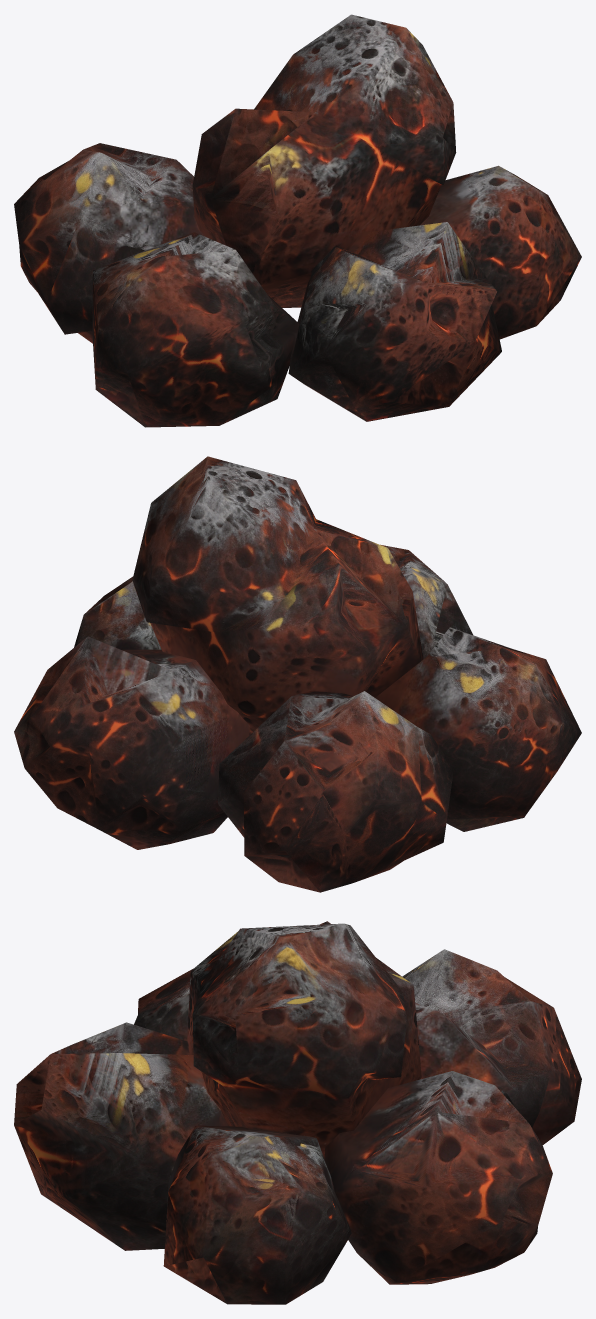
File: nature-red-lava-pebbles.glb
The picture shows the model from 3 angles, top to bottom: view 1: azimuth 30°, elevation 25°; view 2: azimuth 150°, elevation 25°; view 3: azimuth 270°, elevation 25°; orthographic projection. The views are drawn at different scales.
Size of the model in its own units: 1 by 0.6767 by 0.9938.
1 material, 1 textured.
